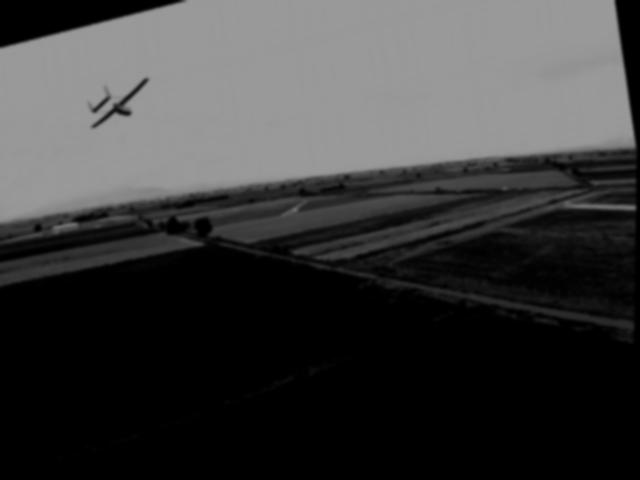hedef: (73, 61, 161, 145)
